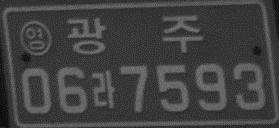0: (21, 67, 52, 115)
3: (232, 62, 266, 111)
5: (155, 63, 189, 113)
6: (56, 66, 88, 115)
7: (118, 64, 149, 113)
9: (194, 62, 228, 111)
광주_D: (66, 15, 203, 56)
라: (90, 69, 116, 109)
영: (18, 20, 53, 57)
